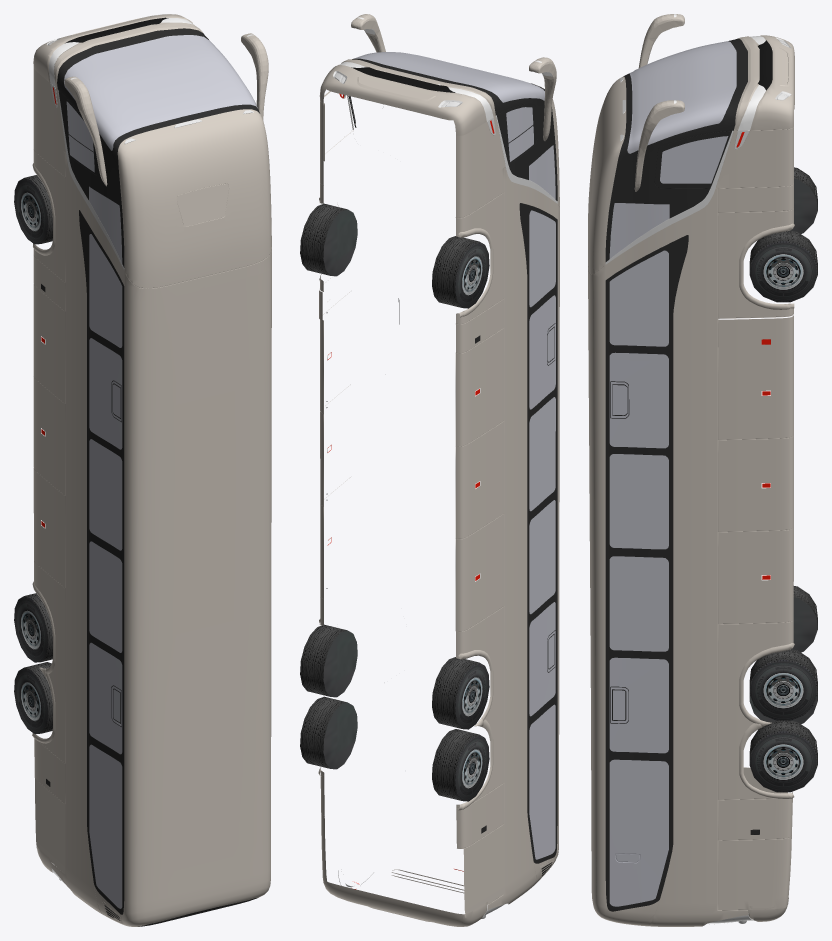
Rendered from bus.gltf.
3 renders of one model, left to right at view 1: azimuth 30°, elevation 25°; view 2: azimuth 150°, elevation 25°; view 3: azimuth 270°, elevation 25°, orthographic.
Visible parts, largest first — view 1: Cubo_030, Cubo_054, Cubo_061, Cubo_072, WheelRL020, WheelRL022, WheelRL016, Cubo_076, Cubo_075, Cubo_017, Cubo_064; view 2: Cubo_030, Cubo_054, Cubo_061, Cubo_075, WheelRL021, WheelRL015, WheelRL019, WheelRL020, WheelRL022, WheelRL016, Cubo_055, Cubo_072 (+2 smaller); view 3: Cubo_030, Cubo_054, Cubo_061, Cubo_078, WheelRL019, WheelRL021, WheelRL015, Cubo_075, Cubo_017, Cubo_080, Cubo_072, Cubo_076 (+4 smaller).
Part boxes in pixels (<box>): Cubo_030: <box>33,28,271,926</box>; Cubo_054: <box>64,35,257,908</box>; Cubo_061: <box>33,284,64,587</box>; Cubo_072: <box>64,33,268,186</box>; WheelRL020: <box>14,662,52,733</box>; WheelRL022: <box>14,175,52,244</box>; WheelRL016: <box>14,593,52,662</box>; Cubo_076: <box>54,17,202,88</box>; Cubo_075: <box>33,14,192,82</box>; Cubo_017: <box>32,163,55,743</box>; Cubo_064: <box>57,89,124,269</box>; Cubo_030: <box>320,58,559,917</box>; Cubo_054: <box>354,52,555,859</box>; Cubo_061: <box>320,292,504,631</box>; Cubo_075: <box>319,64,486,135</box>; WheelRL021: <box>300,203,357,276</box>; WheelRL015: <box>300,624,357,697</box>; WheelRL019: <box>300,696,357,769</box>; WheelRL020: <box>432,729,489,801</box>; WheelRL022: <box>432,236,489,308</box>; WheelRL016: <box>432,657,489,729</box>; Cubo_055: <box>324,882,487,926</box>; Cubo_072: <box>351,14,556,140</box>; Cubo_030: <box>588,38,793,926</box>; Cubo_054: <box>609,41,736,906</box>; Cubo_061: <box>718,343,793,623</box>; Cubo_078: <box>654,126,793,188</box>; WheelRL019: <box>749,720,817,792</box>; WheelRL021: <box>749,230,817,302</box>; WheelRL015: <box>749,649,817,720</box>; Cubo_075: <box>750,35,794,130</box>; Cubo_017: <box>739,223,794,798</box>; Cubo_080: <box>718,315,793,347</box>; Cubo_072: <box>634,14,684,191</box>; Cubo_076: <box>734,36,772,130</box>.
Size of the model in its own units: 0.7018 by 2.99 by 0.7436.
14 materials, 1 textured.
